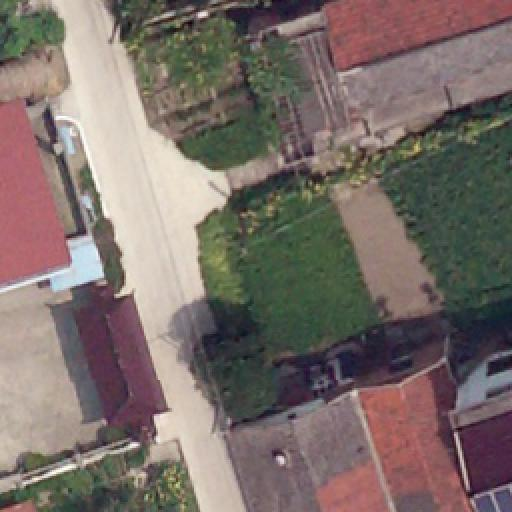solar-panel: (470, 476, 512, 512)
